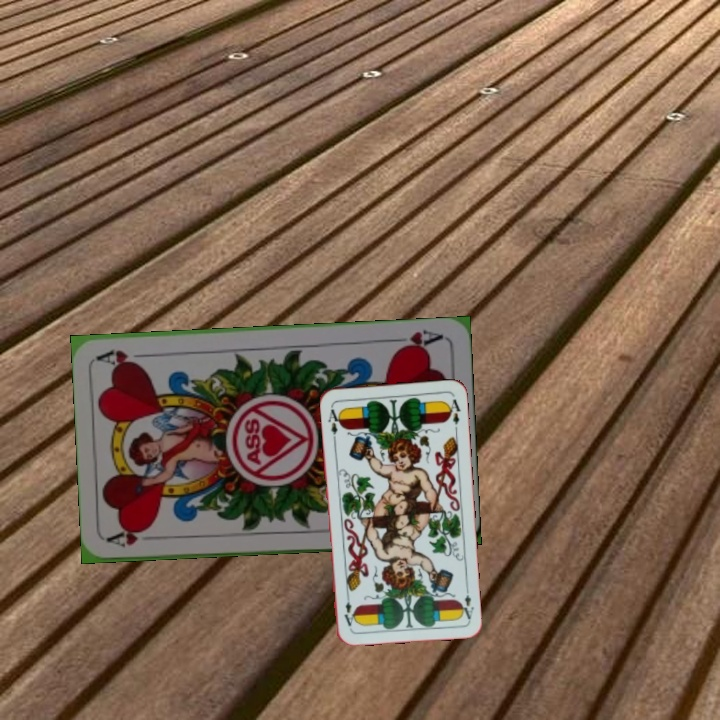EA: (324, 402, 344, 442), (456, 582, 476, 622)
HA: (386, 326, 445, 354), (105, 525, 164, 550)
